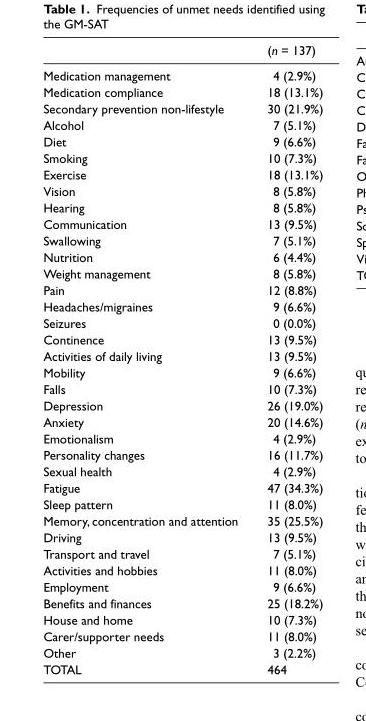table: (42, 42, 322, 676)
table column: (42, 42, 251, 676), (251, 42, 322, 676)
table column header: (42, 42, 322, 62)
table row: (42, 62, 322, 83), (42, 42, 322, 62), (42, 83, 322, 100), (42, 116, 322, 133), (42, 149, 322, 166), (42, 198, 322, 215), (42, 231, 322, 248), (42, 264, 322, 281), (42, 297, 322, 314), (42, 330, 322, 347), (42, 363, 322, 380), (42, 396, 322, 413), (42, 429, 322, 446), (42, 462, 322, 479), (42, 495, 322, 512), (42, 528, 322, 545), (42, 561, 322, 578), (42, 594, 322, 611), (42, 627, 322, 644), (42, 100, 322, 116), (42, 133, 322, 149), (42, 166, 322, 182), (42, 182, 322, 198), (42, 215, 322, 231), (42, 248, 322, 264), (42, 281, 322, 297), (42, 314, 322, 330), (42, 347, 322, 363), (42, 380, 322, 396), (42, 413, 322, 429), (42, 446, 322, 462), (42, 479, 322, 495), (42, 512, 322, 528), (42, 545, 322, 561), (42, 578, 322, 594), (42, 611, 322, 627), (42, 644, 322, 660), (42, 660, 322, 676)
